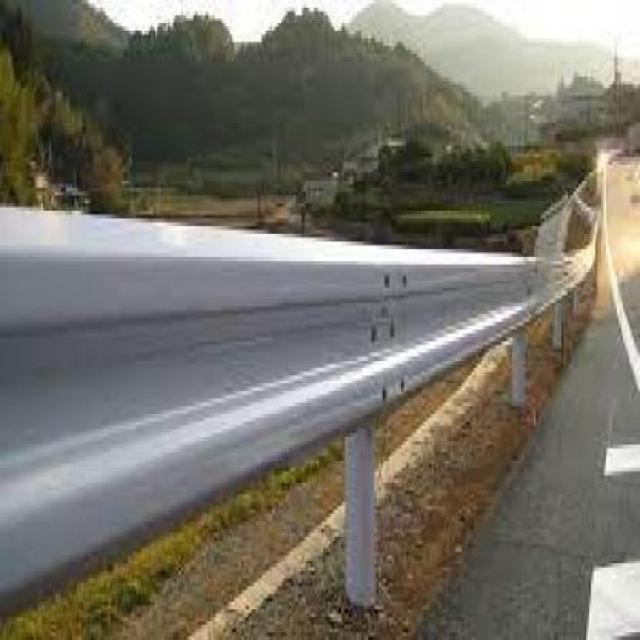Guard rail: (1, 192, 604, 626)
